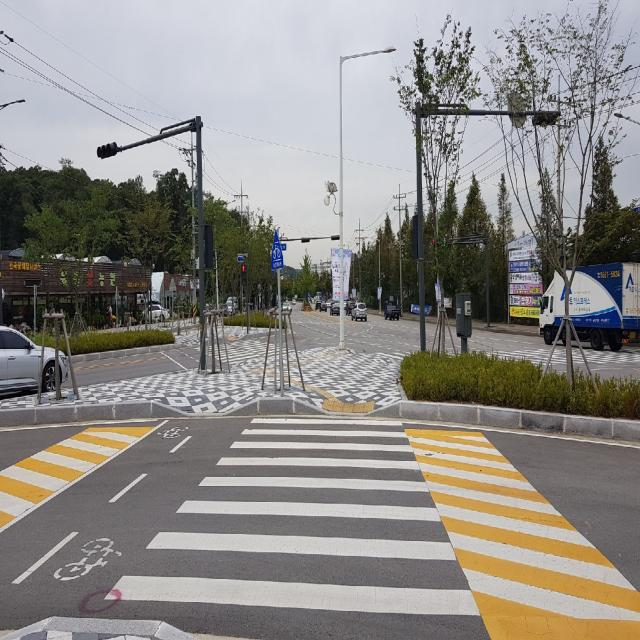횡단보도: (103, 416, 482, 618)
